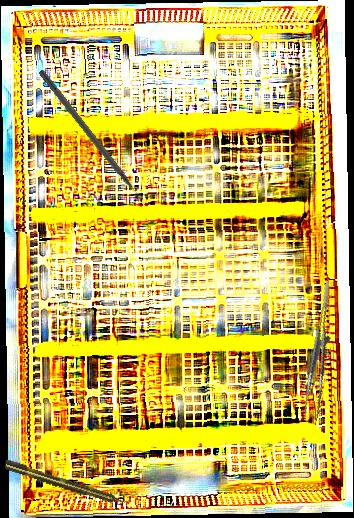Handpiece: (2, 457, 132, 511)
Hook Surgical: (36, 68, 151, 211)
Tissue Forceps: (290, 280, 353, 422)
